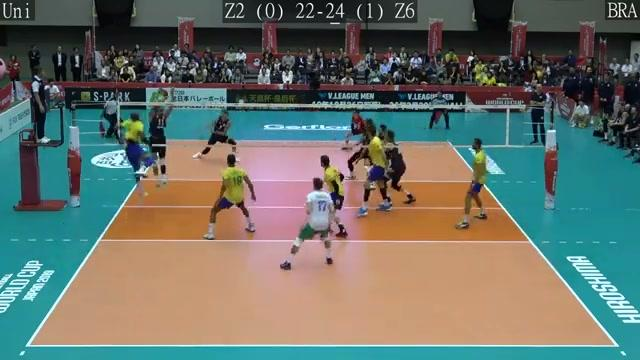ball: (154, 90, 167, 107)
